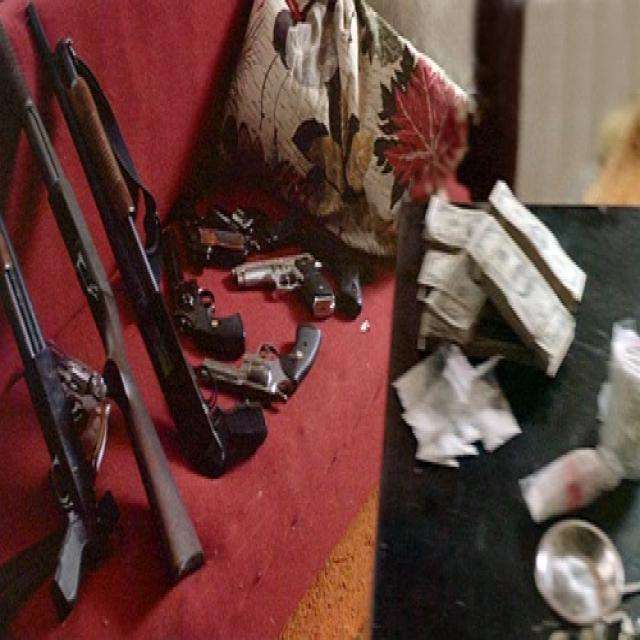rifle: (1, 14, 209, 589), (25, 4, 269, 478), (1, 210, 125, 616)
